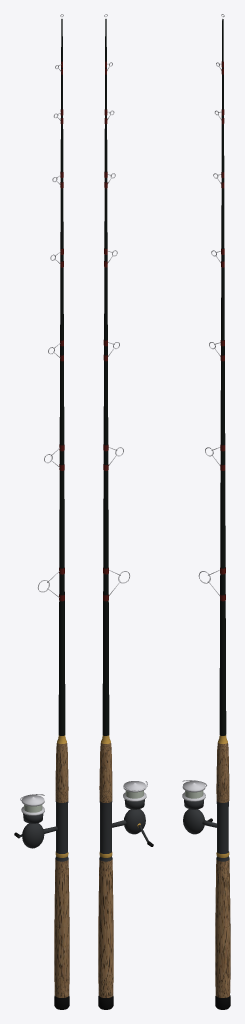
File: fishing_rod.gltf
3 renders of one model, left to right at view 1: azimuth 30°, elevation 25°; view 2: azimuth 210°, elevation 25°; view 3: azimuth 330°, elevation 25°, orthographic.
Visible parts, largest first — view 1: fishing_rod; view 2: fishing_rod; view 3: fishing_rod.
Part boxes in pixels (<box>): fishing_rod: <box>14,14,69,1009</box>; fishing_rod: <box>98,14,153,1009</box>; fishing_rod: <box>182,14,230,1009</box>.
Bounding box in the file's own units: 0.1015 × 2.04 × 0.087.
8 materials, 1 textured.
